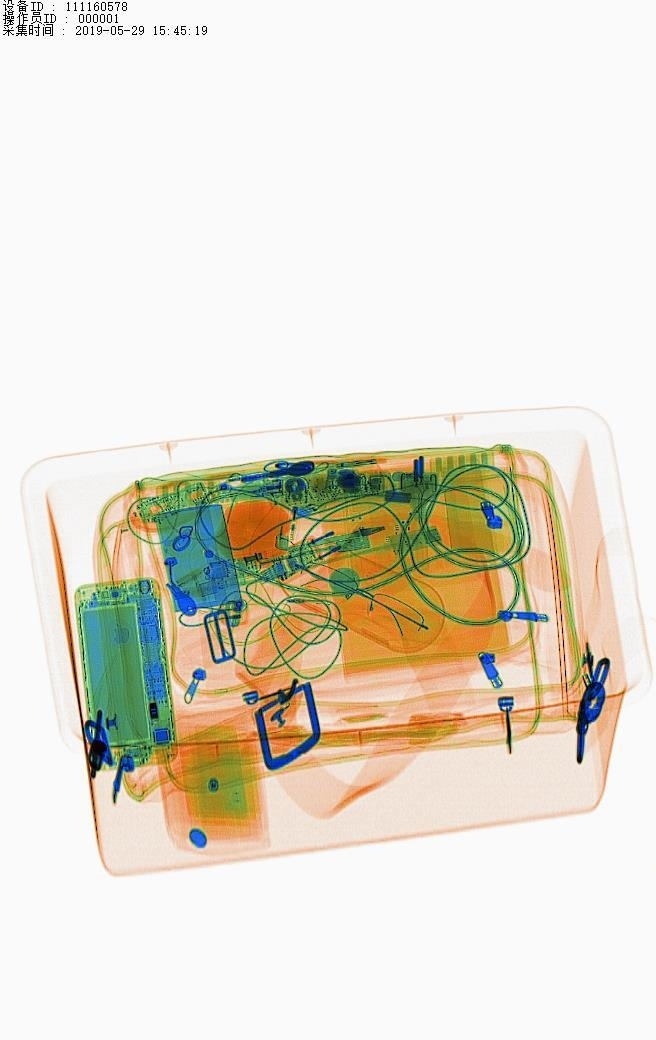NonmetallicFire: (254, 448, 324, 581)
